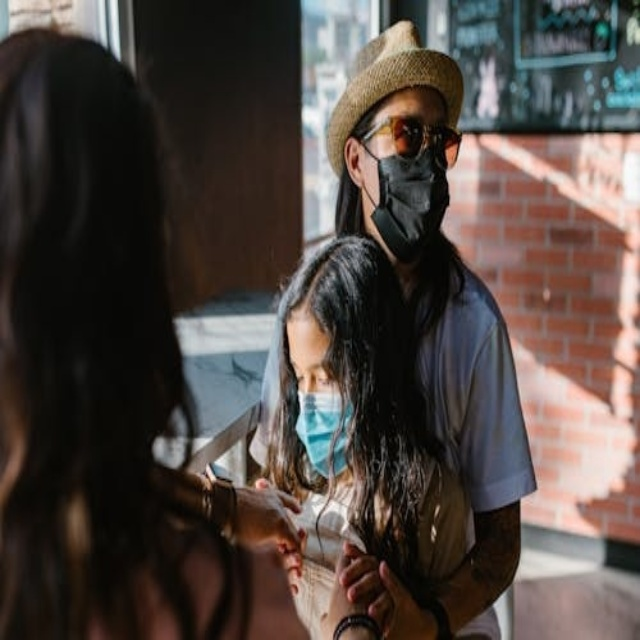Gafas: (359, 116, 462, 169)
Mascara: (367, 143, 449, 260), (294, 386, 354, 478)
Sin_gafas: (285, 348, 329, 386)
Sin_guantes: (195, 473, 302, 559), (351, 549, 437, 640)
